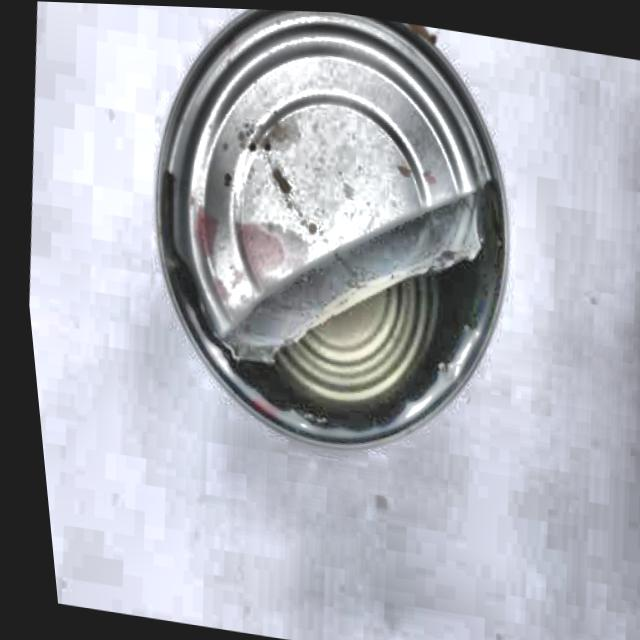Cans: (92, 3, 554, 495)
